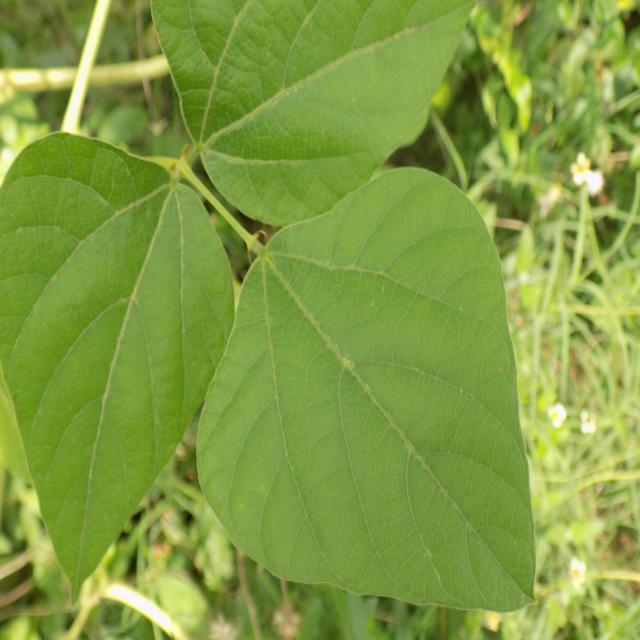Dolicos bean_healthy: (198, 164, 540, 617), (0, 133, 231, 604)
